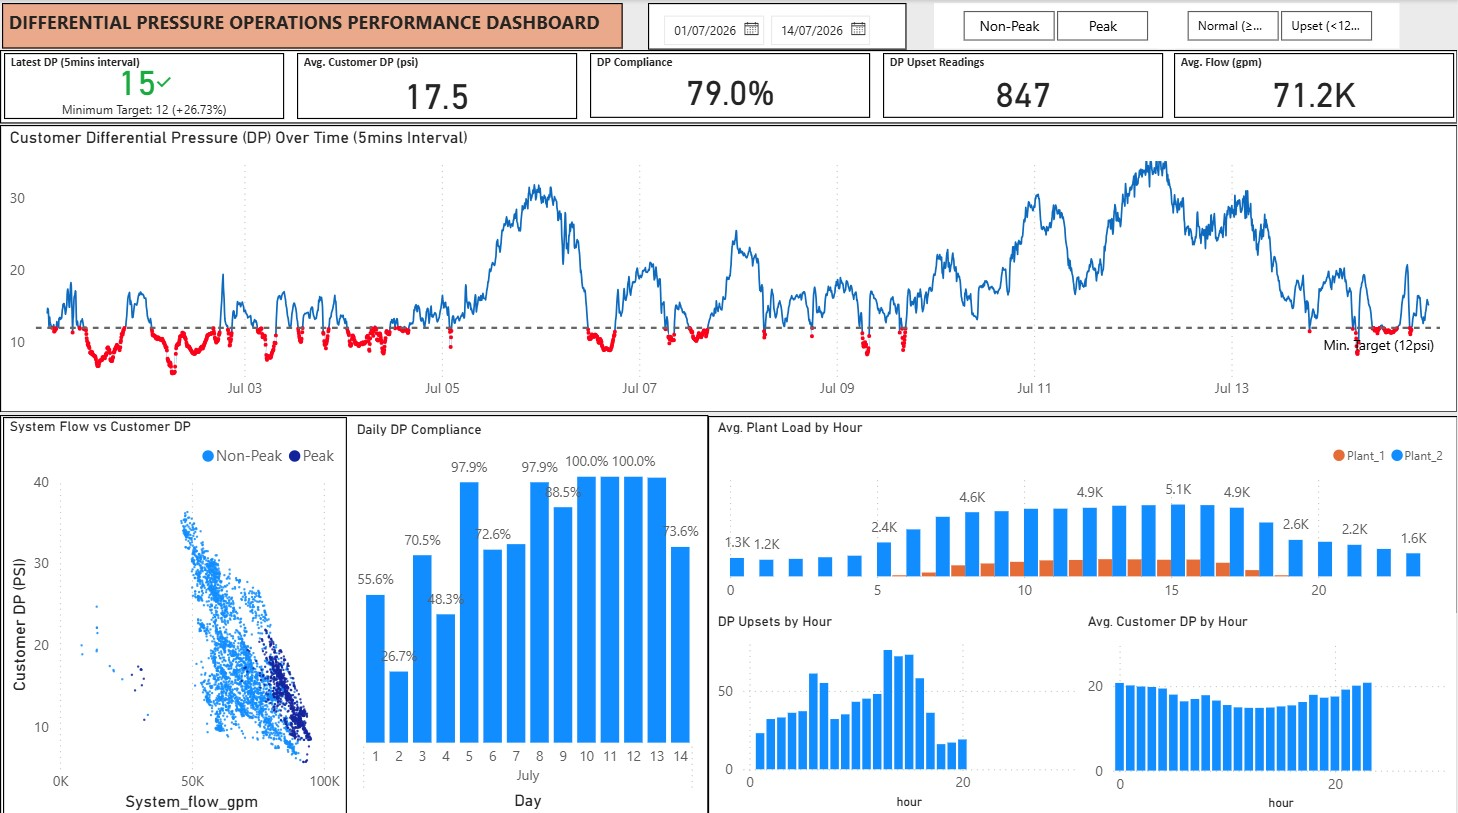

Layout of this report page (visuals, bound fields, positions):
{"tool":"powerbi","page":{"name":"Customer DP Ops Dashboard","canvas":[1280,720],"ordinal":0},"visuals":[{"type":"textbox","box":[1.8,2.7,544.6,40.3],"z":0},{"type":"shape","box":[0.4,109.4,1279.8,252.4],"z":0,"group":"g1"},{"type":"slicer","fields":{"Values":["Data.timestamp"]},"box":[593.9,2.7,226.6,41.2],"z":1000},{"type":"shape","box":[0,364.1,622,355.9],"z":1000,"group":"g1"},{"type":"slicer","fields":{"Values":["Data.peak_condition"]},"box":[820.5,2.7,212.3,40.3],"z":2000},{"type":"slicer","fields":{"Values":["Data.dp_status"]},"box":[1016.7,2.7,212.3,40.3],"z":3000},{"type":"shape","box":[0.4,43.9,1279.8,64.6],"z":3000,"group":"g1"},{"type":"group","id":"g1","title":"Group 1","box":[0,43.9,1280.2,676.1],"z":4000},{"type":"shape","box":[621.4,365.3,658.3,352.4],"z":4000,"group":"g1"},{"type":"kpi","title":"Latest DP (5mins interval)","fields":{"Indicator":["Data.Current DP"],"TrendLine":["Data.timestamp"],"Goal":["Data.Target DP (PSI)"]},"box":[3.9,46.9,245.9,58.1],"z":5000,"group":"g1"},{"type":"card","title":"Avg. Customer DP (psi)","fields":{"Values":["Data.Average DP"]},"box":[260.6,46.9,245.9,58.1],"z":6000,"group":"g1"},{"type":"card","title":"DP Compliance","fields":{"Values":["Data.DP Compliance %"]},"box":[518.3,46.9,245.9,57.3],"z":7000,"group":"g1"},{"type":"card","title":"DP Upset Readings","fields":{"Values":["Sum(Data.dp_upset)"]},"box":[775,46.9,245.9,57.3],"z":8000,"group":"g1"},{"type":"card","title":"Avg. Flow (gpm)","fields":{"Values":["Data.Average Flow"]},"box":[1030.7,46.9,245.9,57.3],"z":9000,"group":"g1"},{"type":"lineChart","title":"Customer Differential Pressure (DP) Over Time (5mins Interval)","fields":{"Y":["Sum(Data.customer_dp_psi)","Data.DP Upset Point"],"Category":["Data.timestamp"]},"box":[3.9,112.4,1271.8,247.1],"z":10000,"group":"g1"},{"type":"scatterChart","title":"System Flow vs Customer DP","fields":{"Y":["Data.customer_dp_psi"],"Series":["Data.peak_condition"],"X":["Data.total_system_flow_gpm"]},"box":[2.9,365.9,301.6,352.2],"z":11000,"group":"g1"},{"type":"clusteredColumnChart","title":"Daily DP Compliance","fields":{"Y":["Data.DP Compliance %"],"Category":["Data.timestamp.Variation.Date Hierarchy.Month","Data.timestamp.Variation.Date Hierarchy.Day"]},"box":[308.3,370.1,310.7,346.4],"z":12000,"group":"g1"},{"type":"clusteredColumnChart","title":"Avg. Plant Load by Hour","fields":{"Category":["Data.hour"],"Y":["Avg(Data.plant_1_instantaneous_tons)","Avg(Data.plant_2_instantaneous_tons)"]},"box":[625,367.7,651.2,167.9],"z":13000,"group":"g1"},{"type":"clusteredColumnChart","title":"Avg. Customer DP by Hour","fields":{"Category":["Data.hour"],"Y":["Avg(Data.customer_dp_psi)"]},"box":[950,538,328.6,177.4],"z":14000,"group":"g1"},{"type":"clusteredColumnChart","title":"DP Upsets by Hour","fields":{"Category":["Data.hour"],"Y":["Data.DP Upsets"]},"box":[625,538,326.2,176.2],"z":15000,"group":"g1"}]}

Visuals, with their boxes in screenshot pixels (x1, y1, x2, y2), scaled from the page's 1280x720 canvas onto the 1458x813 screenshot:
textbox: (left=2, top=3, right=622, bottom=49)
shape: (left=0, top=124, right=1457, bottom=409)
slicer - Data.timestamp: (left=676, top=3, right=935, bottom=50)
shape: (left=0, top=411, right=708, bottom=812)
slicer - Data.peak_condition: (left=935, top=3, right=1176, bottom=49)
slicer - Data.dp_status: (left=1158, top=3, right=1400, bottom=49)
shape: (left=0, top=50, right=1457, bottom=123)
"Group 1" group: (left=0, top=50, right=1457, bottom=812)
shape: (left=708, top=412, right=1457, bottom=810)
"Latest DP (5mins interval)" kpi: (left=4, top=53, right=285, bottom=119)
"Avg. Customer DP (psi)" card: (left=297, top=53, right=577, bottom=119)
"DP Compliance" card: (left=590, top=53, right=870, bottom=118)
"DP Upset Readings" card: (left=883, top=53, right=1163, bottom=118)
"Avg. Flow (gpm)" card: (left=1174, top=53, right=1454, bottom=118)
"Customer Differential Pressure (DP) Over Time (5mins Interval)" lineChart: (left=4, top=127, right=1453, bottom=406)
"System Flow vs Customer DP" scatterChart: (left=3, top=413, right=347, bottom=811)
"Daily DP Compliance" clusteredColumnChart: (left=351, top=418, right=705, bottom=809)
"Avg. Plant Load by Hour" clusteredColumnChart: (left=712, top=415, right=1454, bottom=605)
"Avg. Customer DP by Hour" clusteredColumnChart: (left=1082, top=607, right=1456, bottom=808)
"DP Upsets by Hour" clusteredColumnChart: (left=712, top=607, right=1083, bottom=806)
